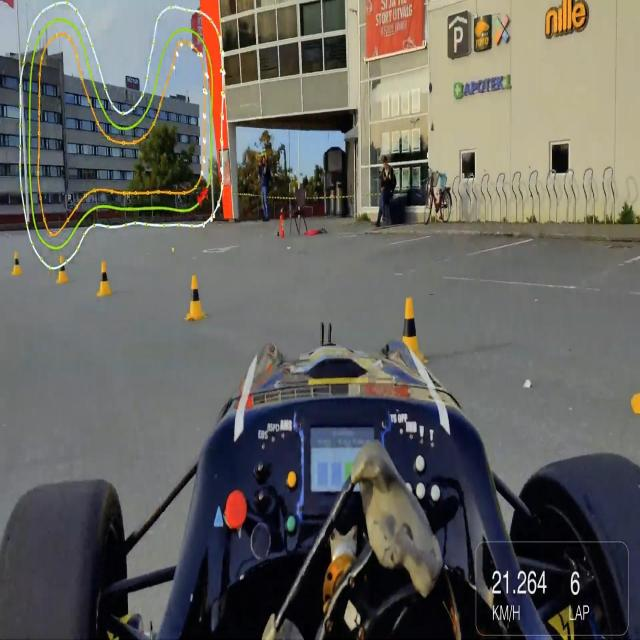yellow_cone: (401, 292, 423, 359), (185, 272, 208, 324), (94, 254, 115, 302), (11, 246, 23, 281), (630, 378, 640, 420), (54, 267, 72, 289)
